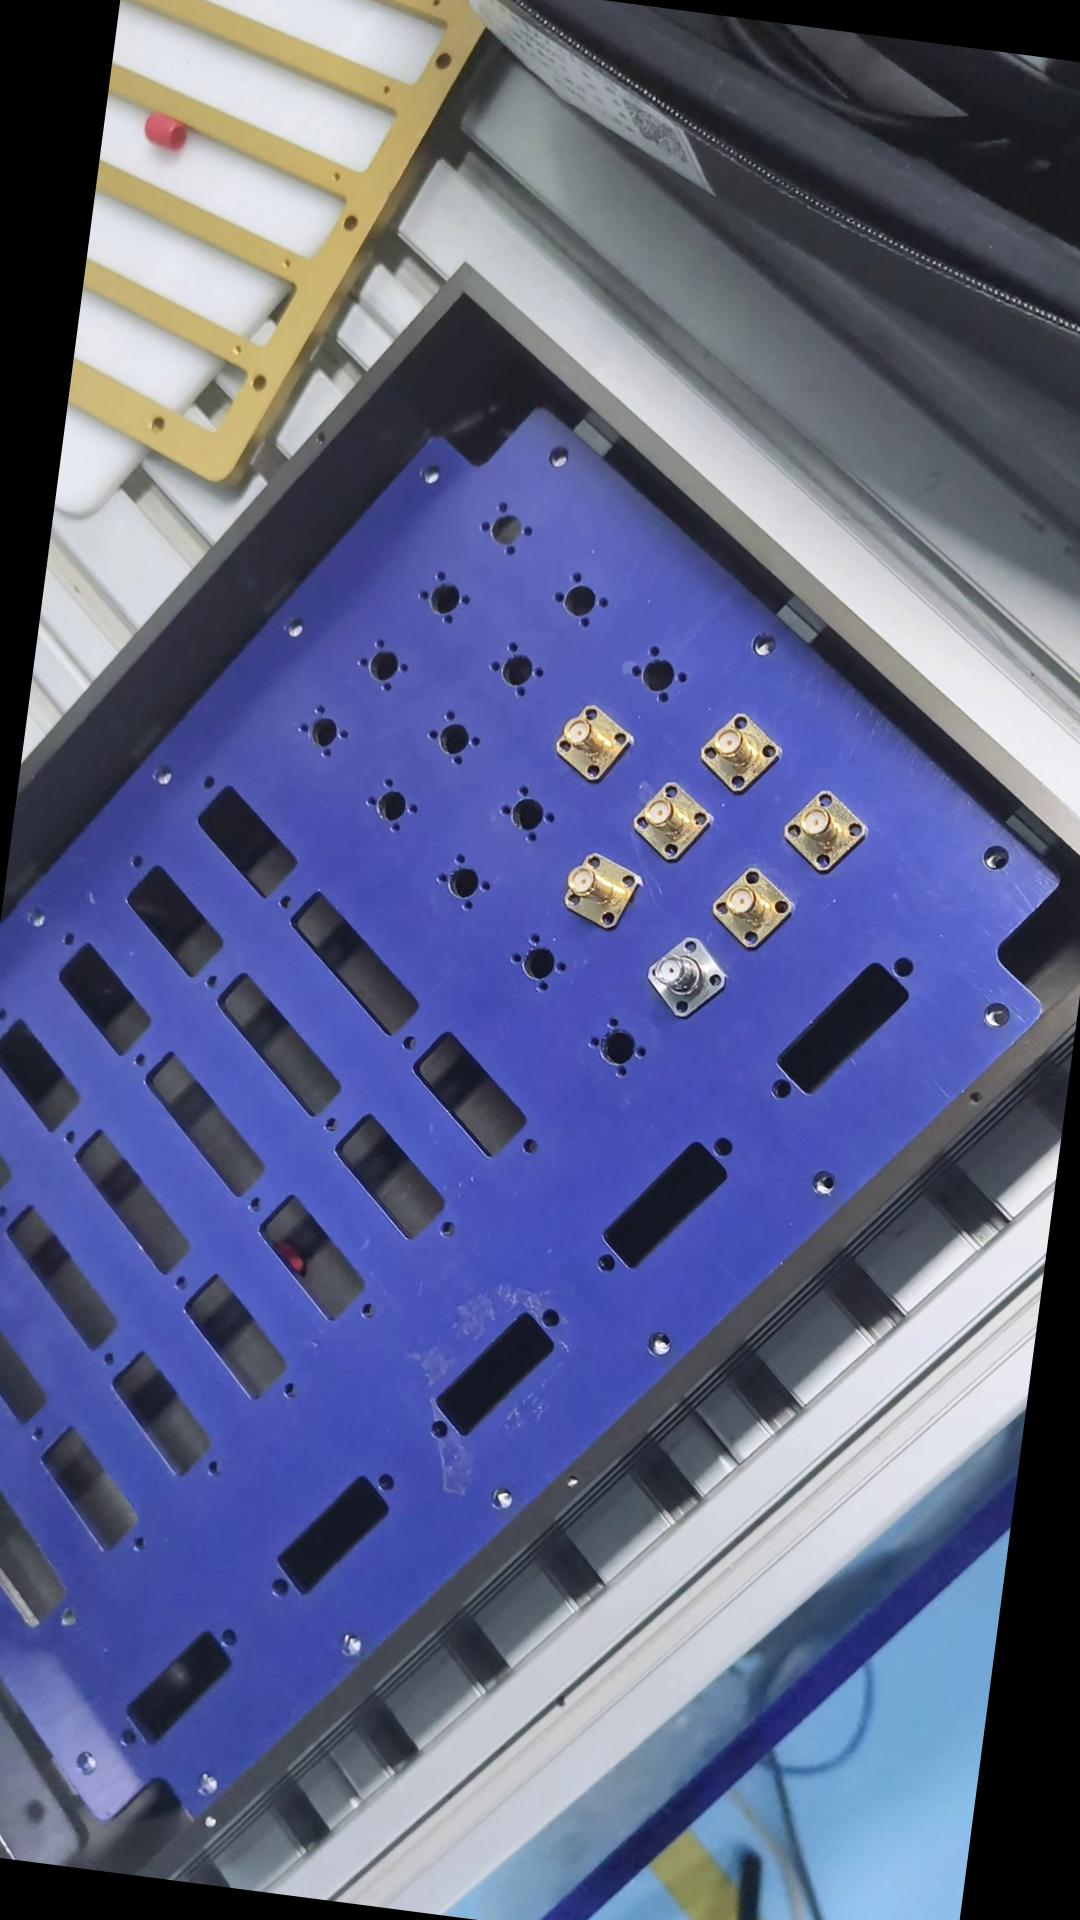SMA: (774, 781, 873, 878), (703, 857, 802, 949), (636, 924, 729, 1019), (690, 705, 785, 796), (542, 695, 632, 789), (625, 771, 713, 864), (555, 848, 638, 934)
